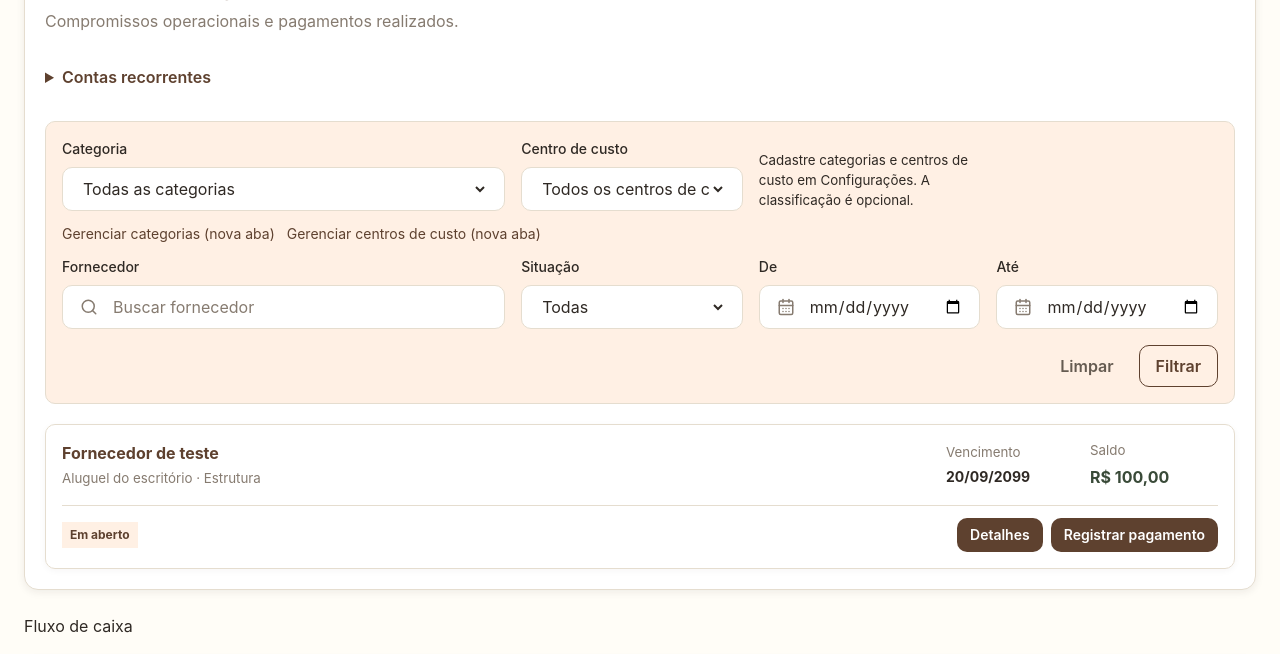
Scenario: FinancePage — contas a pagar › aplica e limpa filtros e diferencia uma busca sem resultados
(page scrolled)
Type "Inexistente" into the field labelled "Fornecedor" at (300, 307), box [111, 294, 488, 320]
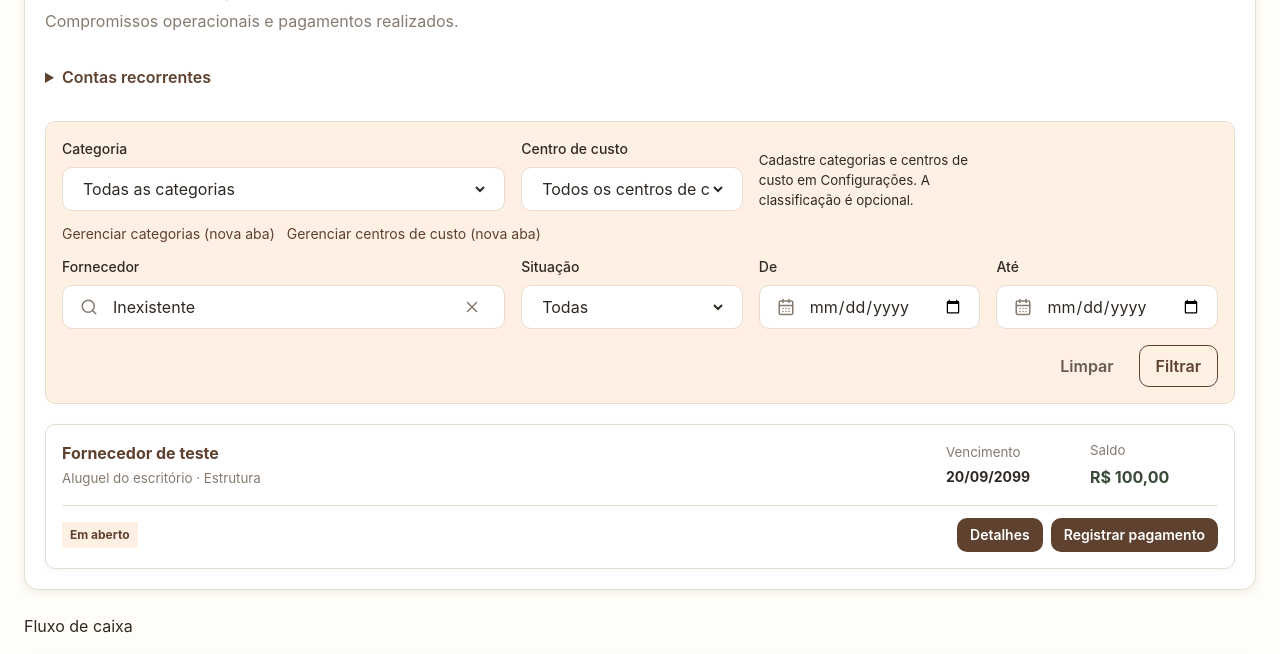
Select "Vencida" in the dropdown labelled "Situação" at (632, 307), box [538, 296, 726, 318]
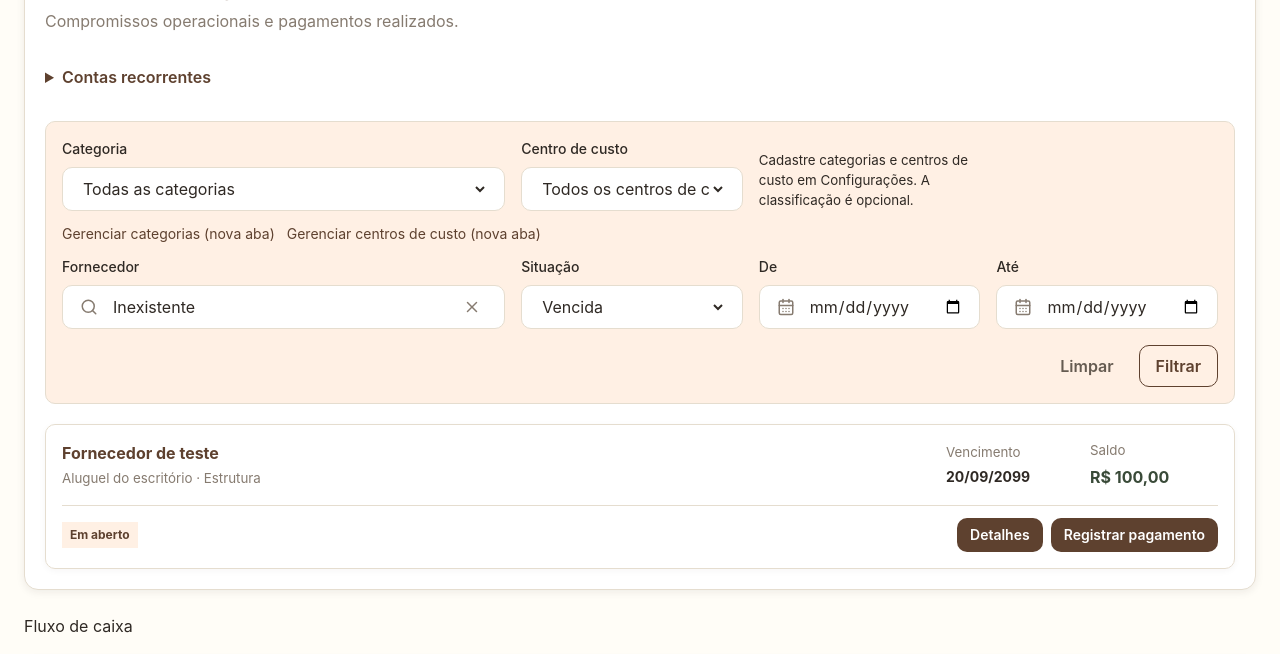
Type "2026-09-01" into the date field labelled "De" at (886, 307), box [808, 294, 963, 320]
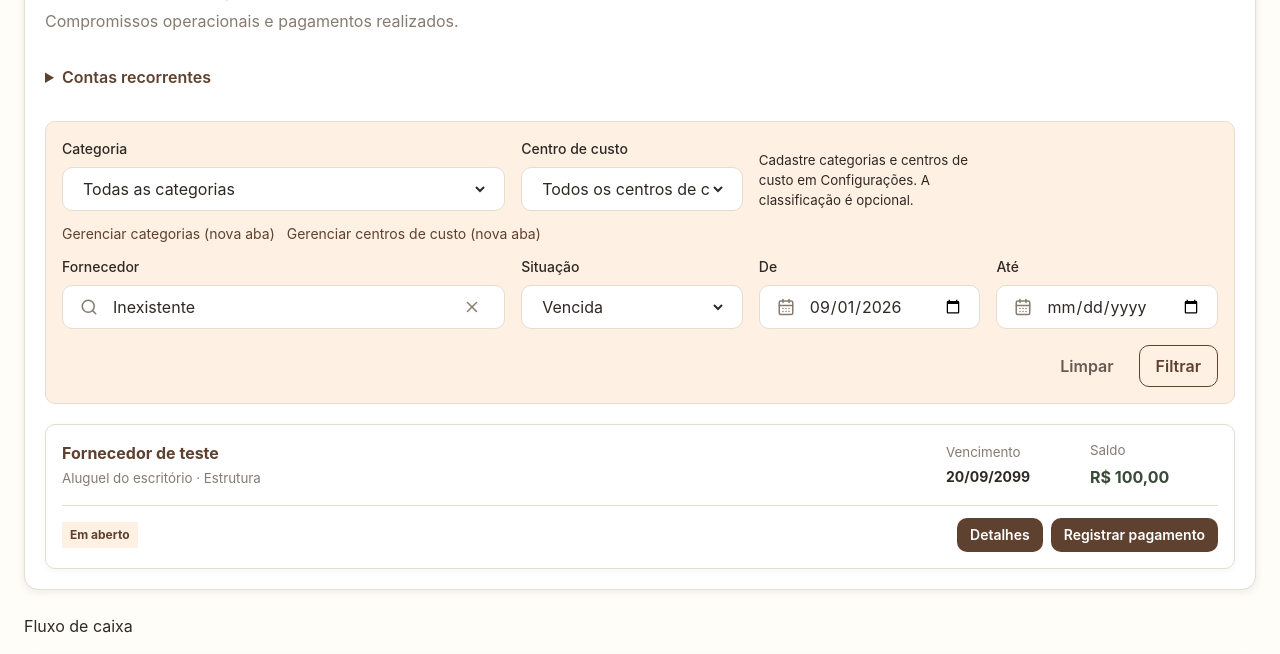
Type "2026-09-30" into the date field labelled "Até" at (1123, 307), box [1045, 294, 1201, 320]
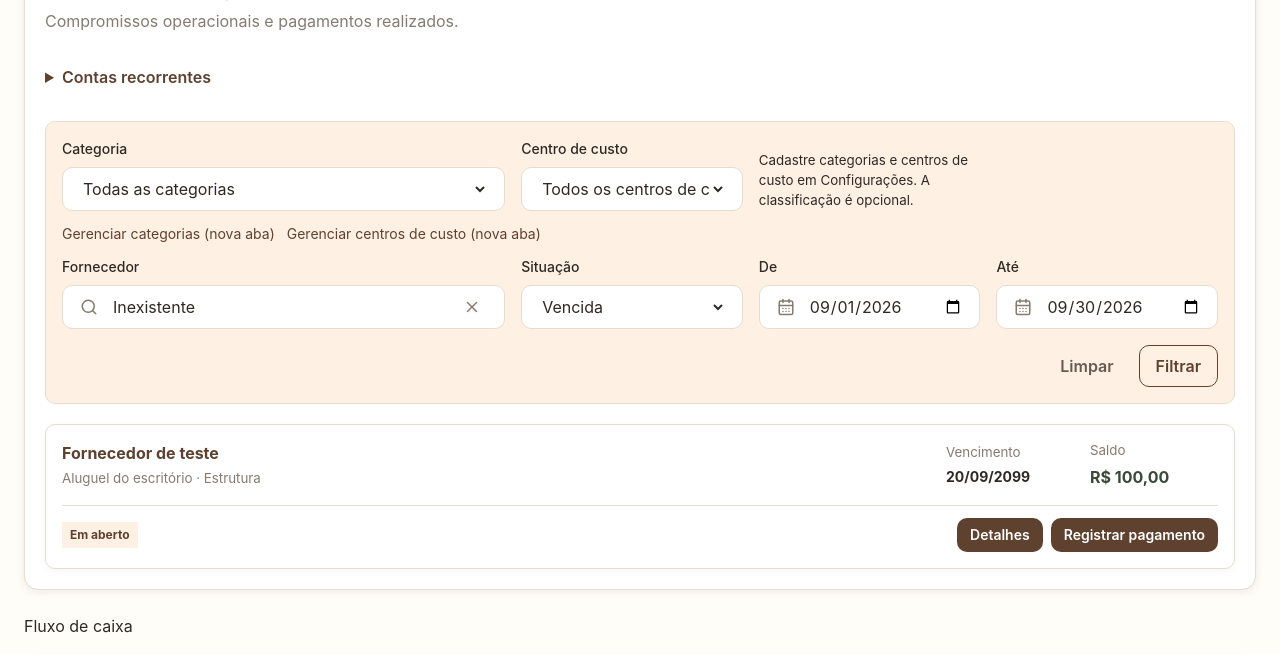
Submit the form with class "finance-payables__filters", box [45, 121, 1235, 404]
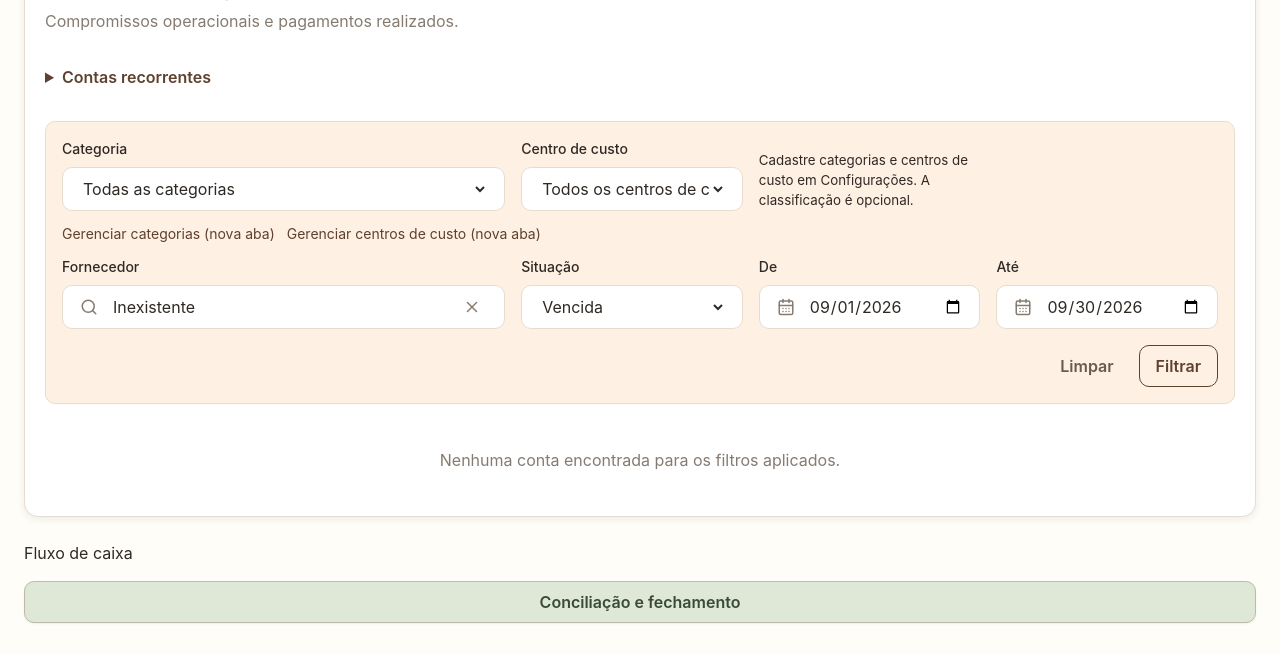
Expected: the text "Nenhuma conta encontrada para os filtros aplicados." is shown, [440, 450, 840, 470]
Click the button "Limpar" at (1087, 366), box [1043, 345, 1131, 387]
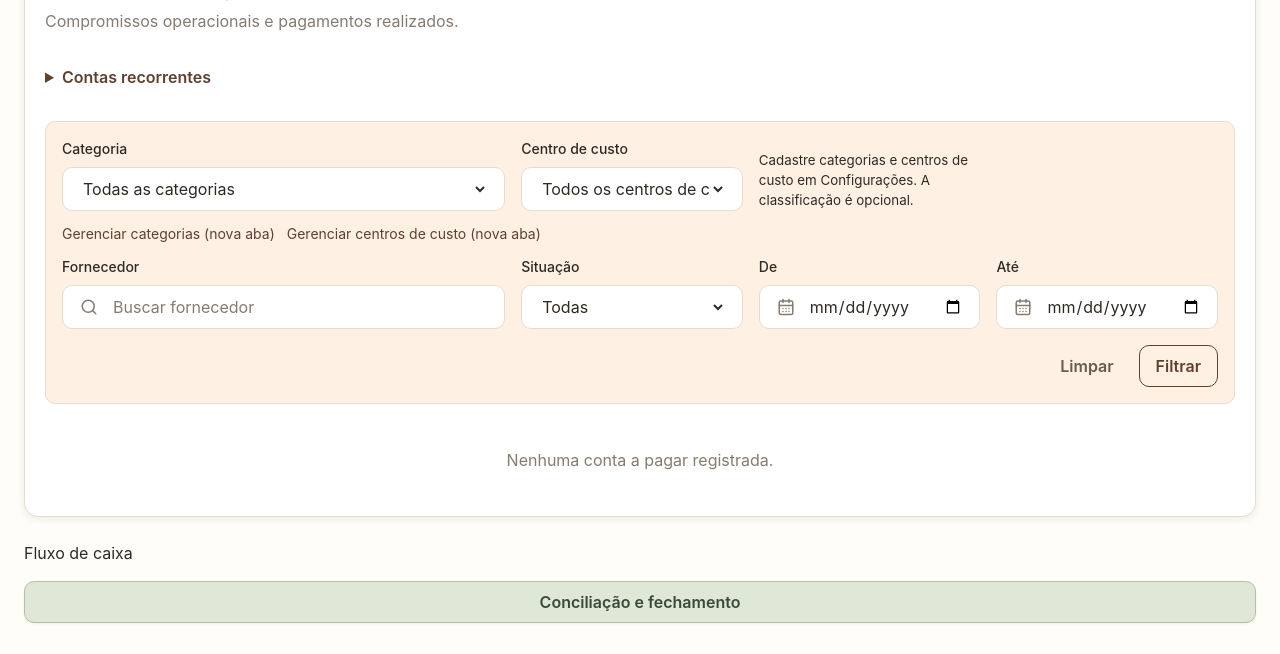
Expected: the field labelled "Fornecedor" is empty, [111, 294, 488, 320]
Expected: the text "Nenhuma conta a pagar registrada." is shown, [507, 450, 773, 470]
